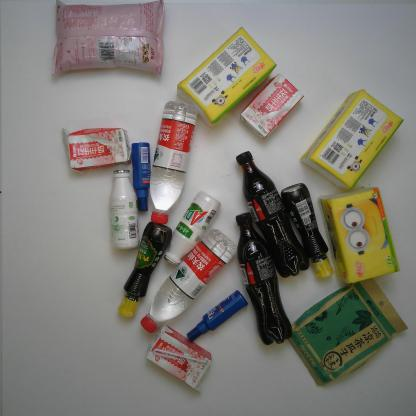Dried Food: (285, 276, 411, 389)
Drink: (138, 226, 239, 337), (233, 149, 312, 280), (232, 210, 295, 347), (148, 97, 201, 226)
Milk: (235, 69, 307, 144), (143, 320, 216, 392), (163, 186, 222, 268), (58, 124, 138, 179), (107, 166, 143, 251)
Personal Hygiene: (184, 287, 252, 345), (127, 140, 156, 215)
Puffed Food: (49, 1, 169, 77)
Seasoner: (114, 220, 176, 320), (277, 180, 337, 281)
Tissue: (297, 86, 408, 192), (173, 22, 279, 131), (315, 183, 404, 286)
